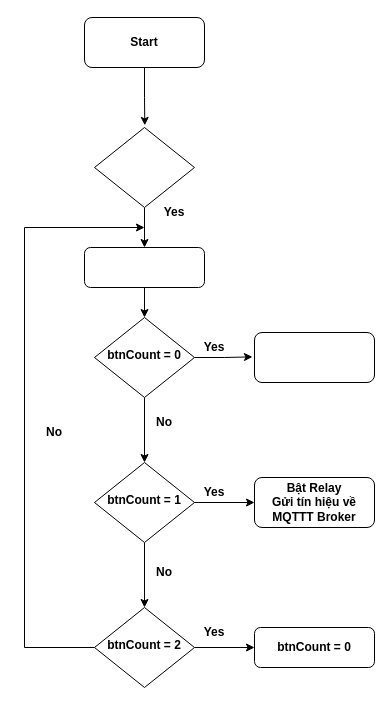
The diagram is 392 pixels wide and 705 high, and some of its shapes have lost their labels. The box of each missing label's shape, as (x1, y1, x2, y2) in pixels:
btnCount ++: (84, 246, 204, 288)
Nhấn nút: (94, 126, 194, 208)
Tắt Relay Gửi tín hiệu về MQTTT Broker: (254, 332, 374, 382)
